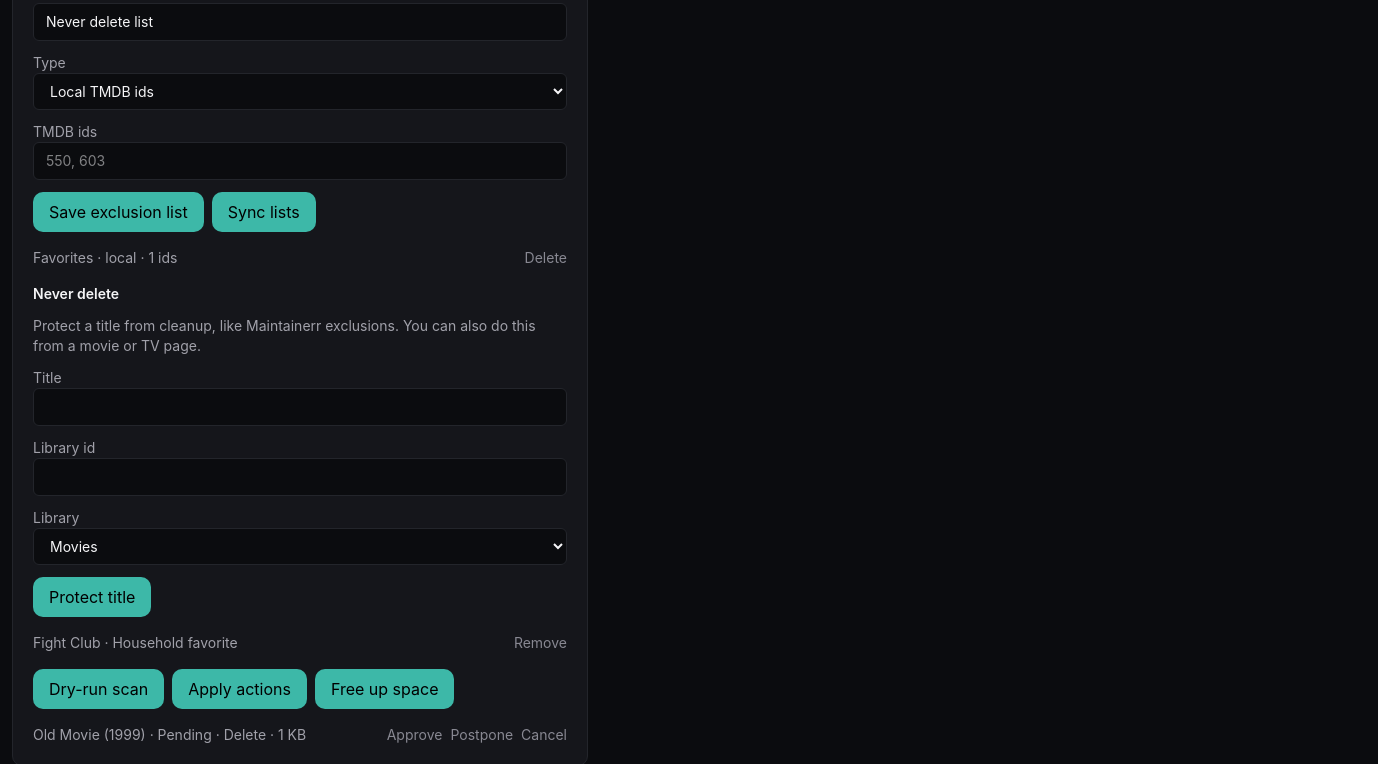
Settings page › protects a title from maintainer cleanup
The width and height of the screenshot is (1378, 764).
(page scrolled)
Expected: the list with test id "maintainer-protections" shows "Fight Club", [33, 634, 100, 651]
Type "Dune" into the field named "Protected title" at [300, 407], box [33, 388, 567, 426]
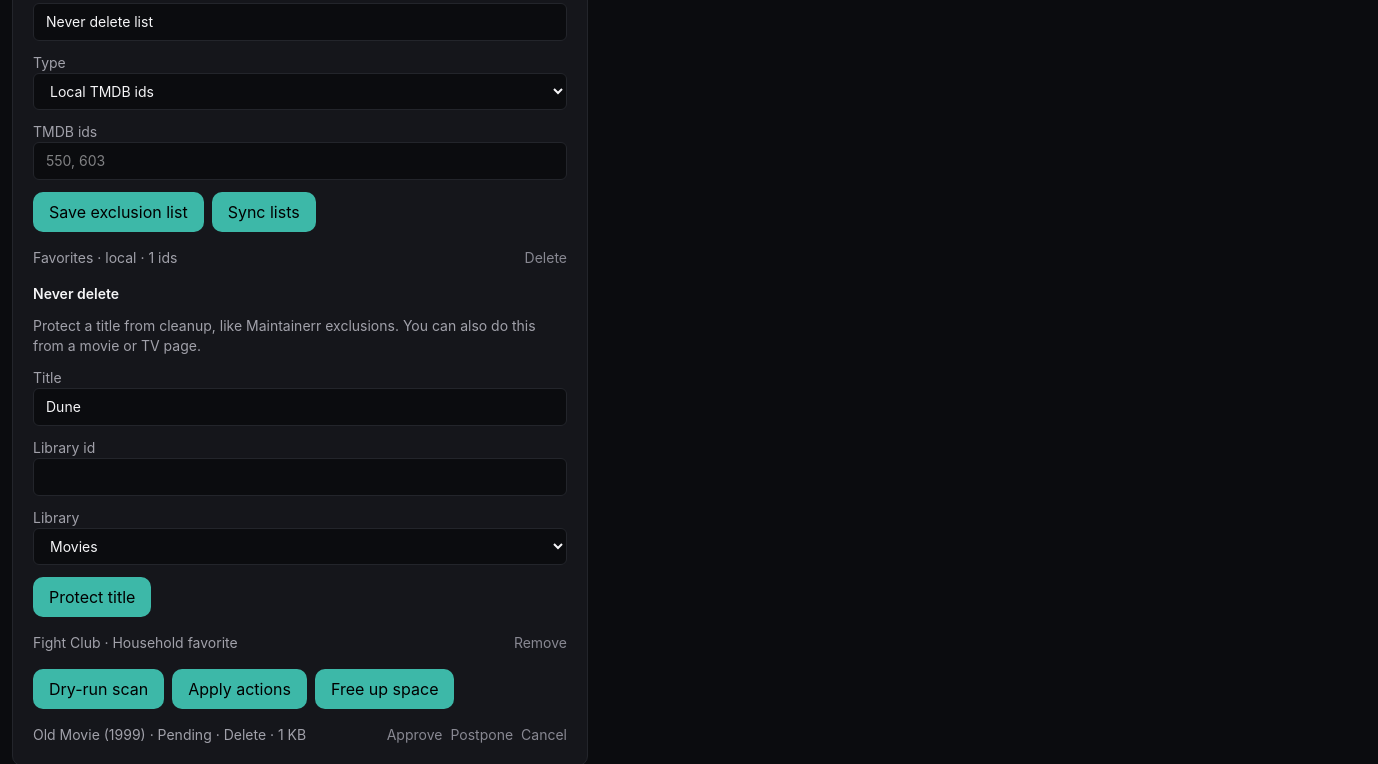
Type "m2" into the field named "Protected item id" at [300, 477], box [33, 458, 567, 496]
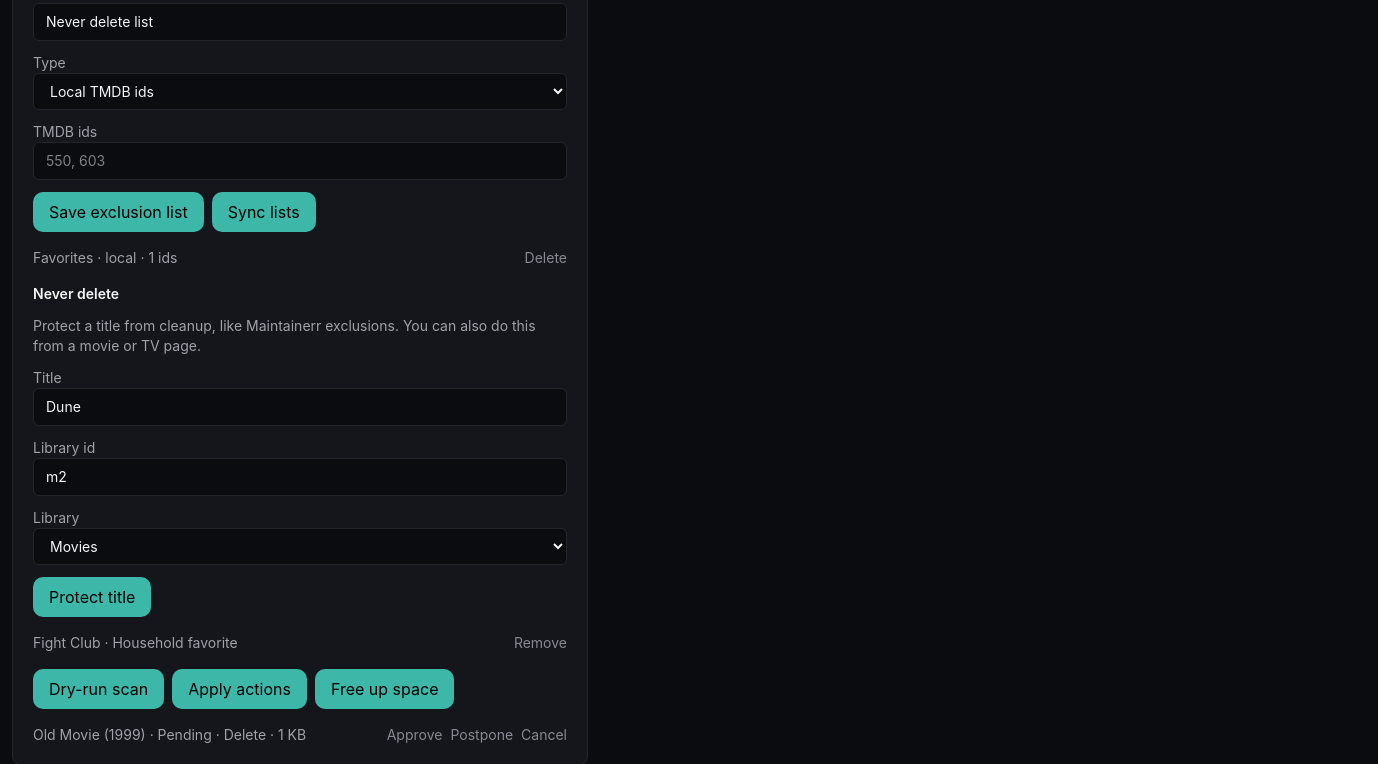
Click the button "Protect title" at [92, 597], box [33, 577, 151, 617]
(page scrolled)
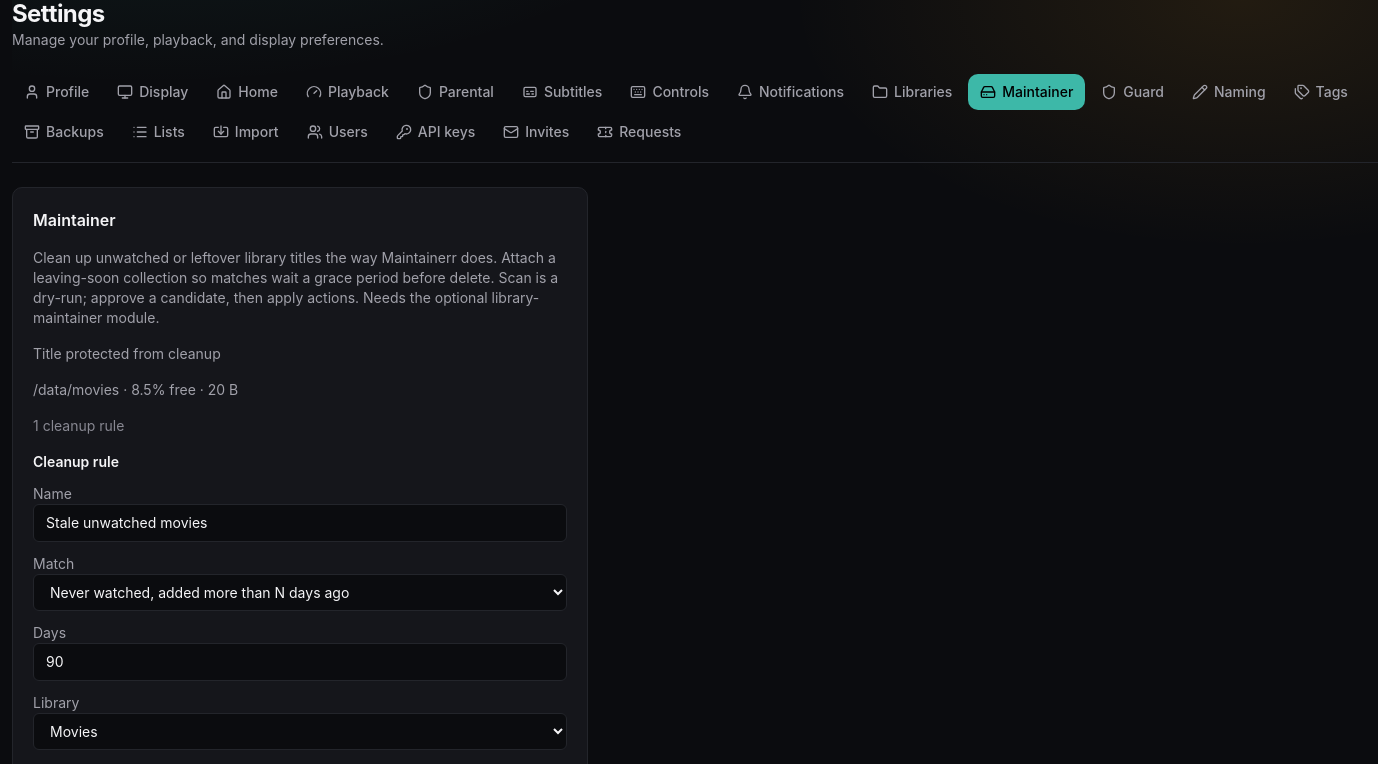
Expected: the text with test id "maintainer-flash" reads "Title protected from cleanup", [33, 345, 221, 362]
